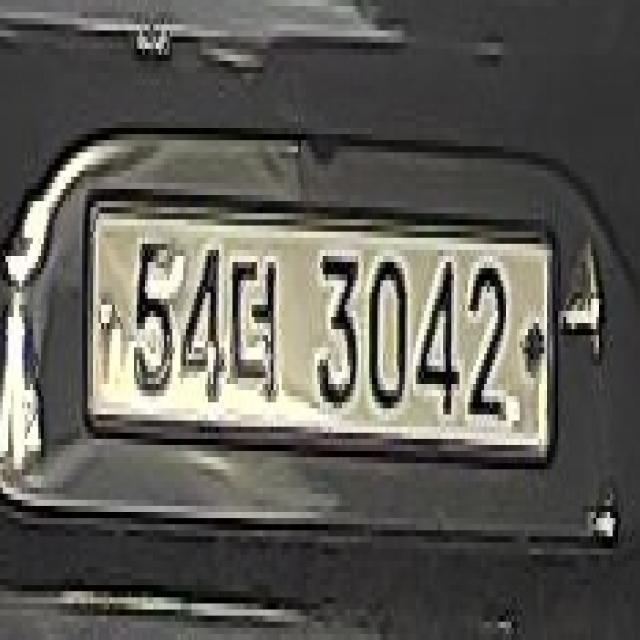0: (366, 262, 418, 433)
2: (460, 238, 514, 445)
3: (314, 250, 364, 414)
4: (175, 213, 230, 427), (413, 244, 465, 433)
5: (134, 220, 181, 414)
deo: (224, 244, 287, 408)
license_plate: (74, 189, 558, 475)
